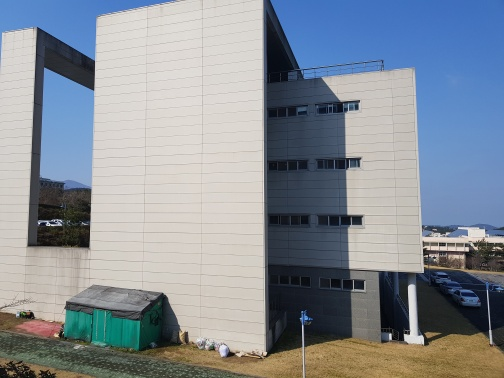Engineering College Building 4: (8, 15, 425, 342), (98, 17, 266, 350), (268, 70, 419, 334)
